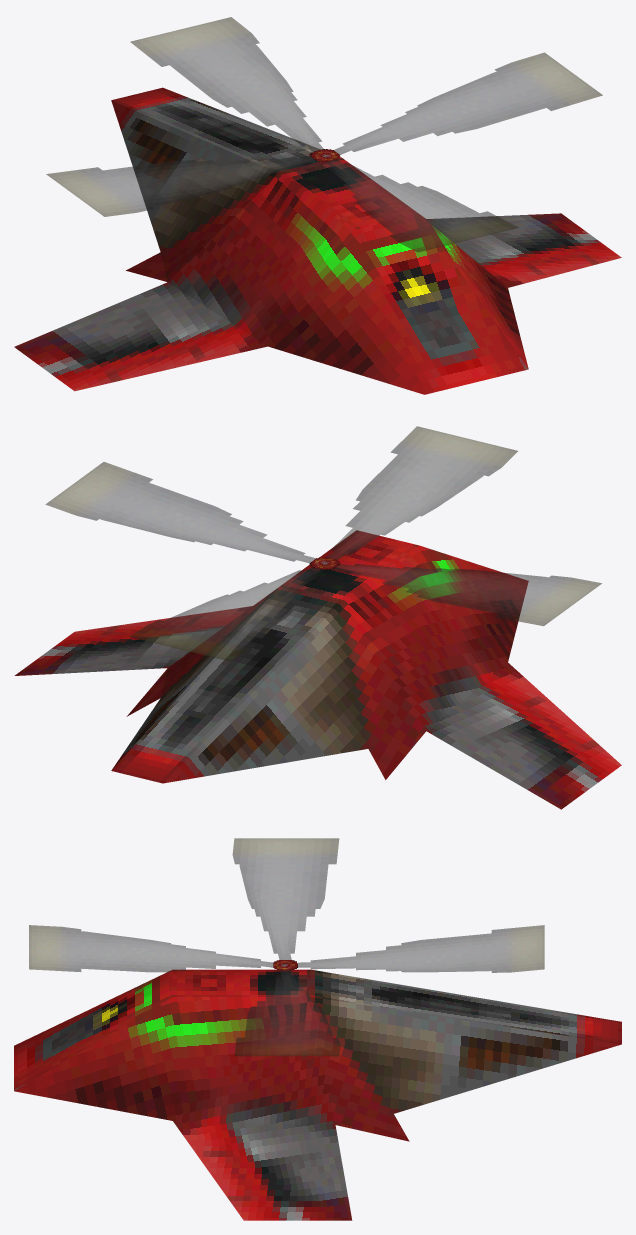
3 renders of one model, top to bottom at view 1: azimuth 30°, elevation 25°; view 2: azimuth 150°, elevation 25°; view 3: azimuth 270°, elevation 25°, orthographic. The views are drawn at different scales.
Visible parts, largest first — view 1: Ovmp_obj_022; view 2: Ovmp_obj_022; view 3: Ovmp_obj_022.
Part boxes in pixels (left/top/right/bottom): Ovmp_obj_022: left=14, top=17, right=621, bottom=394; Ovmp_obj_022: left=14, top=426, right=621, bottom=809; Ovmp_obj_022: left=14, top=838, right=621, bottom=1220.
Bounding box in the file's own units: 1.38 × 0.416 × 1.49.
2 materials, 2 textured.
